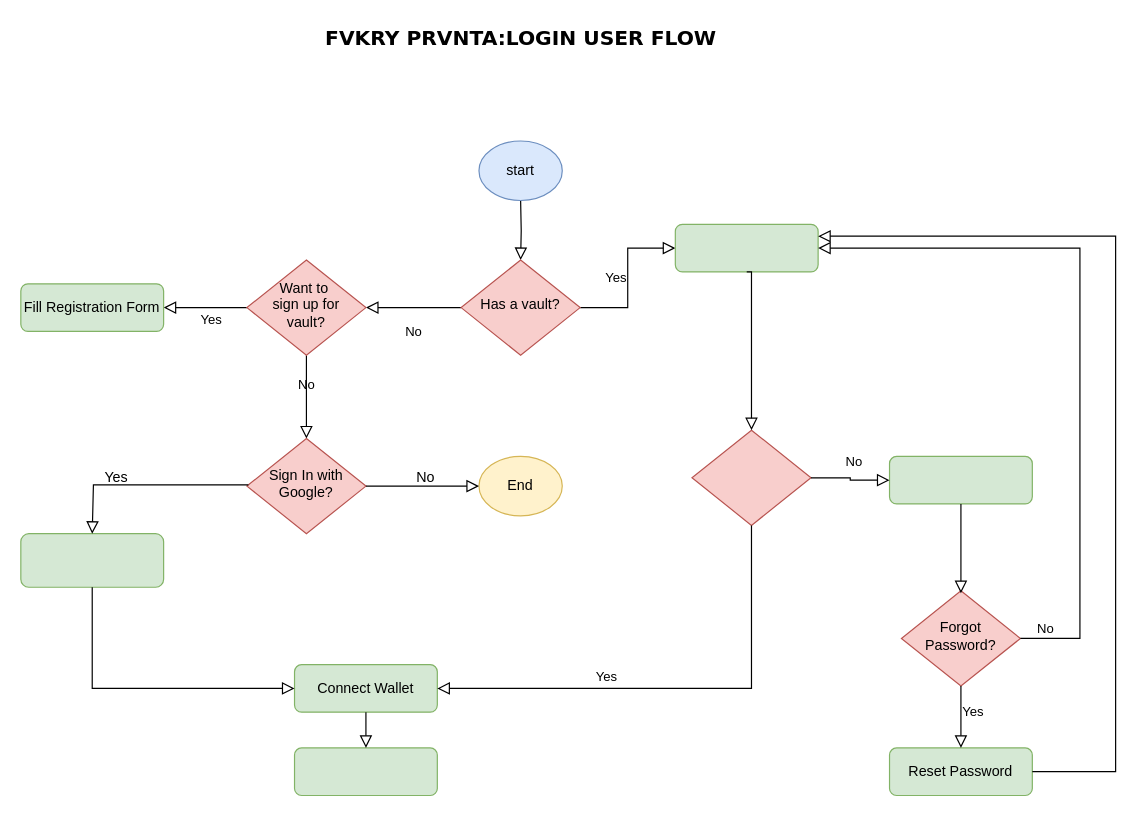
Some shapes in this 1148 by 816 pixel diagram are drawn without their labels. The centre of each missing label's shape, as x and y in pixels:
Enter Email & Password: point 746,247
Google Authentication: point 92,560
Login failed: point 960,479
Login Successful: point 365,771
Valid user Credenitals?: point 751,477
